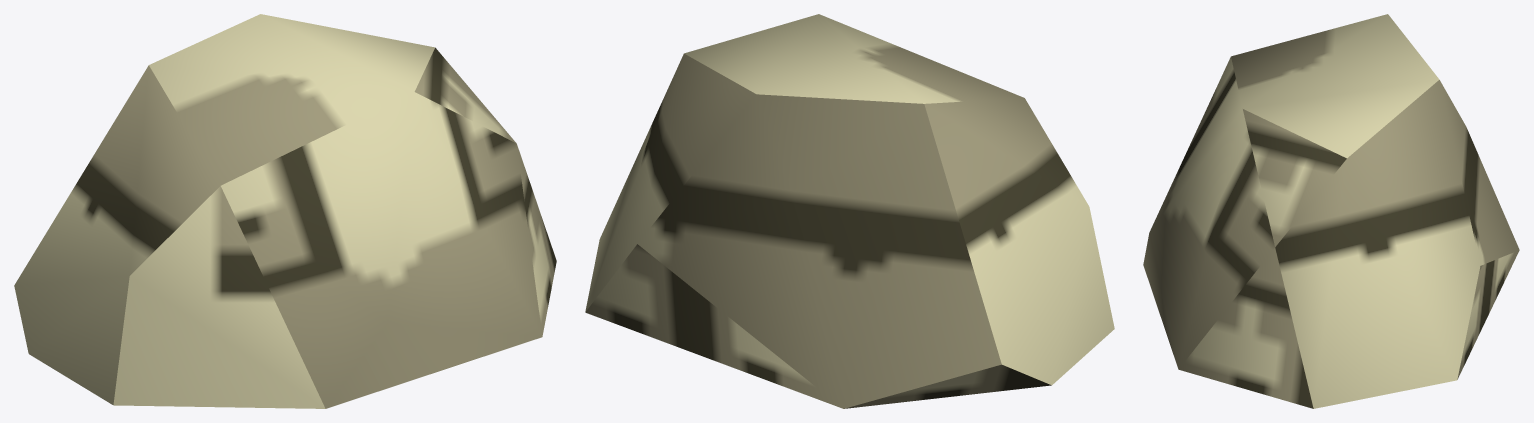
File: stone_v1.fbx
3 renders of one model, left to right at view 1: azimuth 30°, elevation 25°; view 2: azimuth 150°, elevation 25°; view 3: azimuth 270°, elevation 25°, orthographic. The views are drawn at different scales.
Visible parts, largest first — view 1: prop; view 2: prop; view 3: prop.
Boxes of the visible parts, x1=… form: prop: x1=14, y1=14, x2=556, y2=408; prop: x1=585, y1=14, x2=1114, y2=408; prop: x1=1143, y1=14, x2=1519, y2=408.
Bounding box in the file's own units: 0.4977 × 0.2474 × 0.3635.
